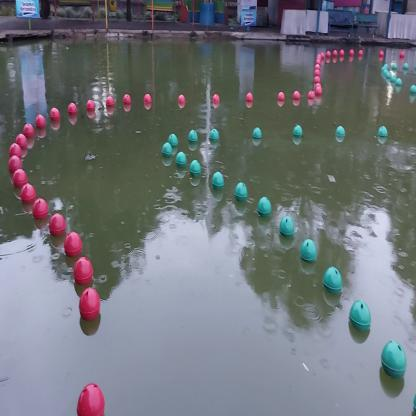green_buoy: (380, 332, 408, 382), (348, 296, 372, 333), (323, 263, 343, 297), (300, 235, 318, 268), (255, 192, 274, 221), (232, 176, 249, 205), (278, 215, 296, 240), (209, 166, 225, 194), (189, 156, 203, 182), (161, 139, 174, 161), (334, 120, 346, 142), (250, 123, 262, 144), (168, 127, 178, 150), (176, 151, 188, 170), (208, 127, 220, 144), (189, 126, 198, 146), (378, 122, 387, 141), (292, 123, 302, 140)
red_buoy: (77, 282, 103, 323), (70, 250, 96, 290), (76, 381, 106, 415), (63, 226, 82, 260), (48, 207, 68, 238), (34, 190, 49, 226), (31, 109, 49, 134), (22, 114, 36, 146), (21, 180, 36, 206), (12, 167, 28, 189), (8, 138, 21, 165), (7, 151, 21, 174), (50, 106, 62, 130), (16, 126, 27, 152), (142, 91, 154, 107), (210, 92, 222, 108), (105, 92, 114, 110), (67, 102, 77, 118), (121, 93, 132, 107), (87, 97, 94, 116), (276, 90, 286, 103), (307, 88, 314, 102), (178, 94, 185, 107), (294, 88, 300, 102), (315, 86, 323, 96), (246, 91, 253, 102)
